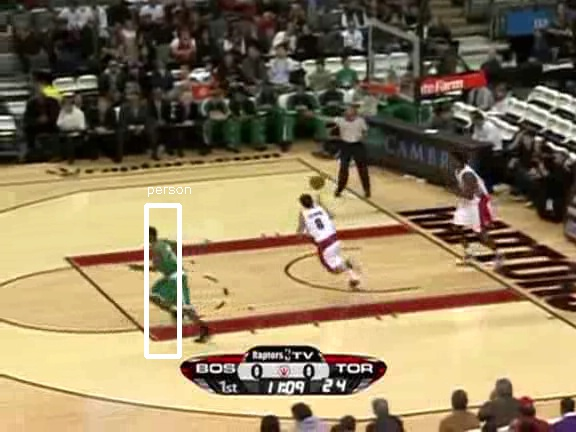person: (155, 234, 189, 315), (154, 234, 188, 315), (156, 234, 190, 315), (155, 233, 189, 314), (155, 235, 189, 316)
target_negative: (24, 106, 380, 423), (153, 21, 362, 326), (50, 231, 358, 416), (402, 128, 439, 414), (454, 331, 474, 370), (378, 431, 494, 432)
